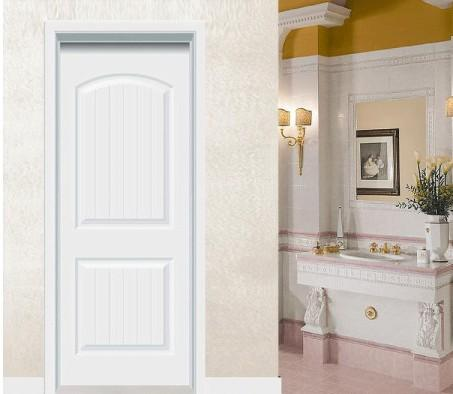door: (59, 43, 194, 385)
